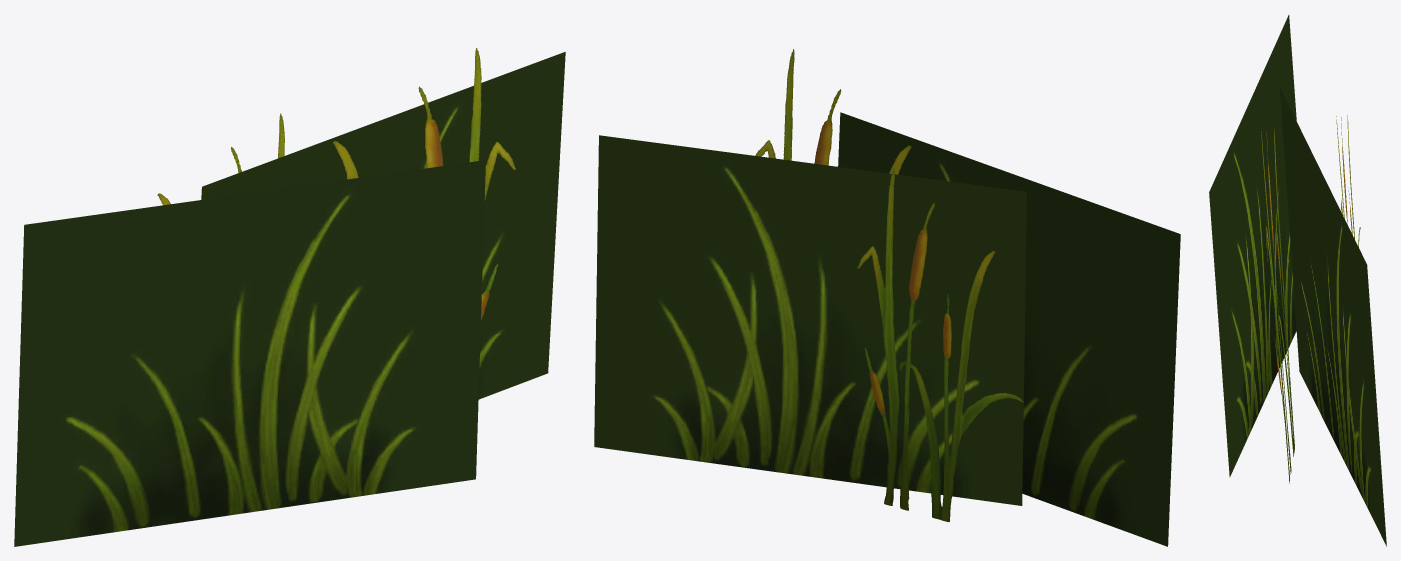
The model's file is CeShi_BFB07_Cao01.FBX.
3 renders of one model, left to right at view 1: azimuth 30°, elevation 25°; view 2: azimuth 150°, elevation 25°; view 3: azimuth 270°, elevation 25°, orthographic. The views are drawn at different scales.
Visible parts, largest first — view 1: CeShi_BFB07_Cao01; view 2: CeShi_BFB07_Cao01; view 3: CeShi_BFB07_Cao01.
Part boxes in pixels (left/top/right/bottom): CeShi_BFB07_Cao01: left=14, top=48, right=565, bottom=546; CeShi_BFB07_Cao01: left=594, top=49, right=1180, bottom=546; CeShi_BFB07_Cao01: left=1209, top=15, right=1386, bottom=546.
Bounding box in the file's own units: 259 × 184 × 78.27.
